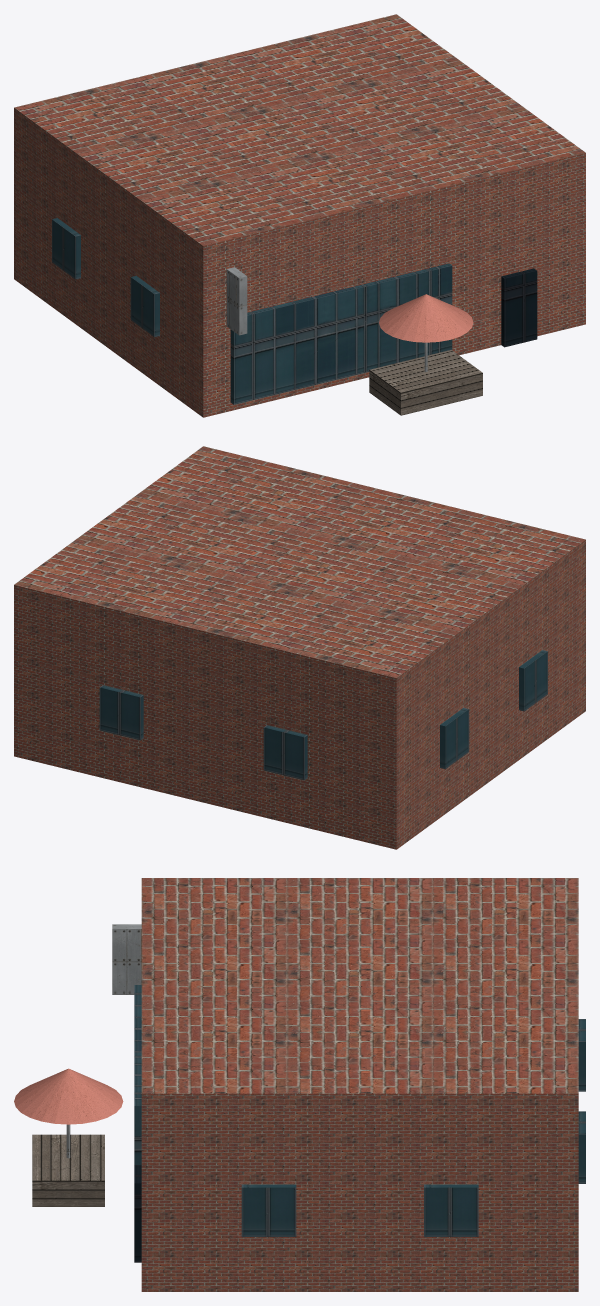
Rendered from coffee-shop_lod0.gltf.
3 views of the same model, one above another, from view 1: azimuth 30°, elevation 25°; view 2: azimuth 150°, elevation 25°; view 3: azimuth 270°, elevation 25° (orthographic). The views are drawn at different scales.
Parts seen in each view (by area): view 1: coffee-shop_main, coffee-shop_fen_07-glass-curtain-blue_0, coffee-shop__patio_tables, coffee-shop__umbrella, coffee-shop_fen_07-glass-curtain-blue_1_t, coffee-shop__blade_sign; view 2: coffee-shop_main, coffee-shop_fen_07-glass-curtain-blue_0; view 3: coffee-shop_main, coffee-shop_fen_07-glass-curtain-blue_0, coffee-shop__patio_tables, coffee-shop__umbrella, coffee-shop__blade_sign, coffee-shop_fen_07-glass-curtain-blue_1_t.
Part boxes in pixels (x1,y1,x2,y2): coffee-shop_main: (14, 14, 585, 417); coffee-shop_fen_07-glass-curtain-blue_0: (52, 218, 452, 404); coffee-shop__patio_tables: (369, 350, 482, 415); coffee-shop__umbrella: (379, 294, 473, 342); coffee-shop_fen_07-glass-curtain-blue_1_t: (501, 268, 537, 347); coffee-shop__blade_sign: (226, 267, 247, 335); coffee-shop_main: (14, 446, 585, 849); coffee-shop_fen_07-glass-curtain-blue_0: (99, 650, 547, 780); coffee-shop_main: (141, 878, 578, 1291); coffee-shop_fen_07-glass-curtain-blue_0: (134, 985, 585, 1236); coffee-shop__patio_tables: (32, 1134, 104, 1206); coffee-shop__umbrella: (14, 1068, 123, 1124); coffee-shop__blade_sign: (112, 924, 141, 994); coffee-shop_fen_07-glass-curtain-blue_1_t: (134, 1165, 141, 1262).
Bounding box in the file's own units: 14.4 × 6 × 15.7.
